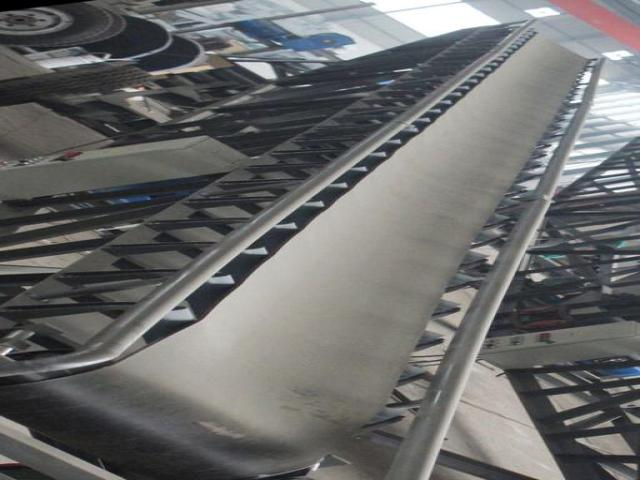conveyor: (0, 16, 608, 479)
